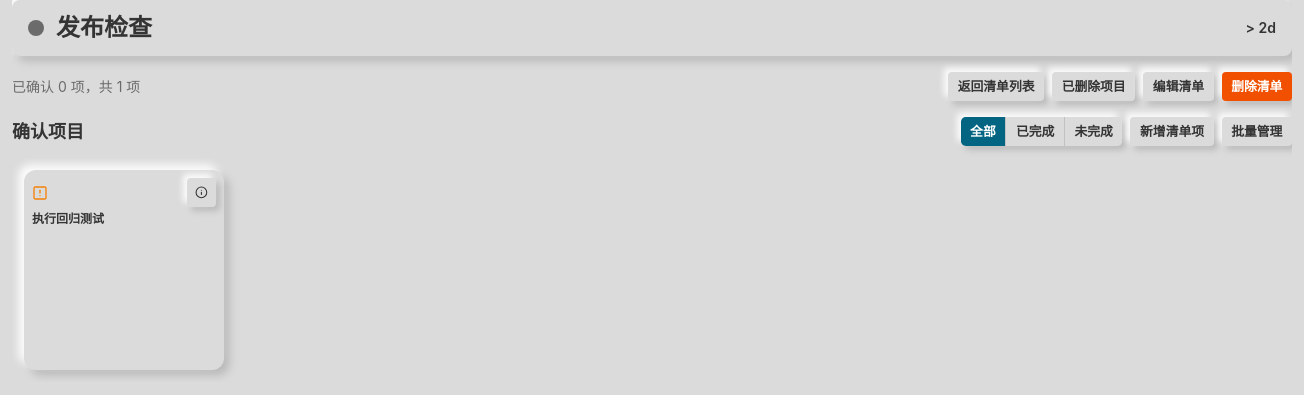
ChecklistDetailView › filters by the pending completion target and restores focus after the card leaves
Click the button "未完成" at [1093, 132], box [1064, 117, 1122, 146]
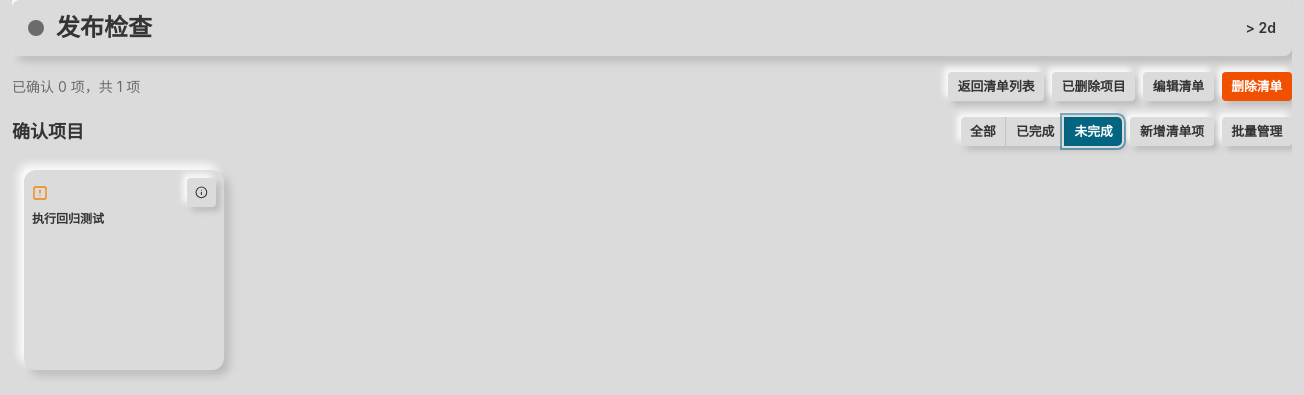
Click the button named "切换清单项状态：执行回归测试" at [124, 270], box [32, 211, 216, 329]
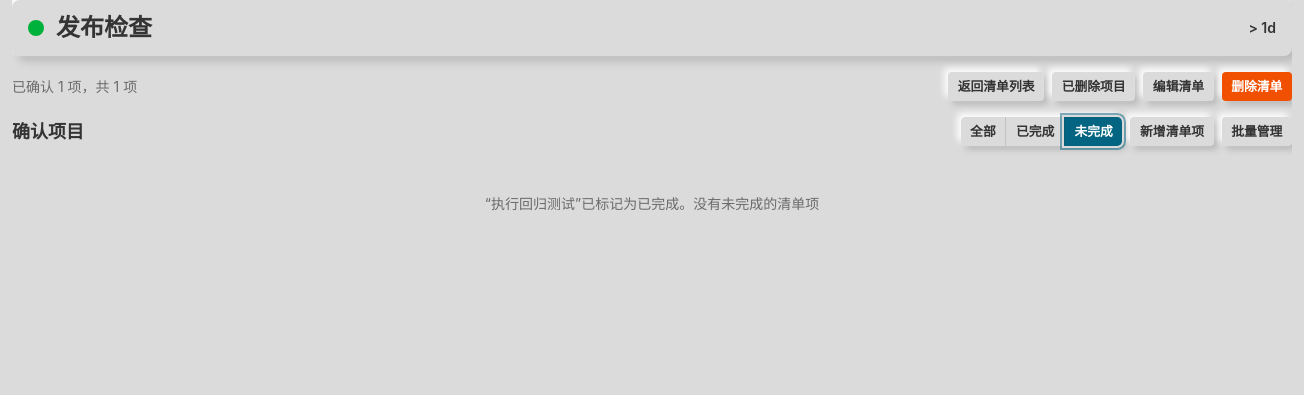
Expected: the message shows "没有未完成的清单项", [693, 195, 819, 212]
Expected: the message reads "“执行回归测试”已标记为已完成。没有未完成的清单项", [485, 195, 819, 212]
